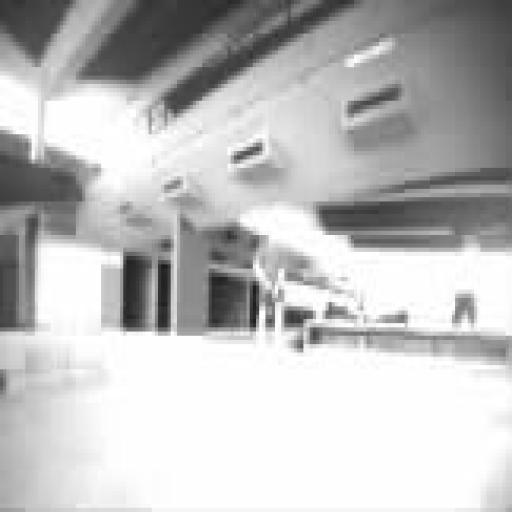human: (253, 240, 287, 339), (452, 290, 477, 327)
